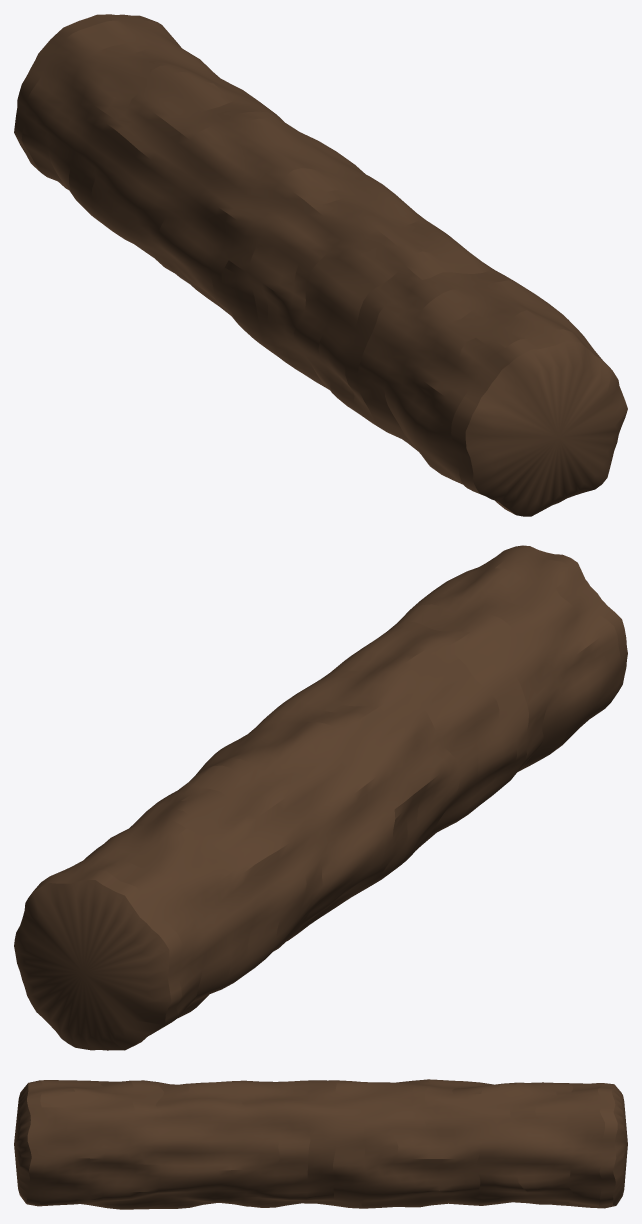
File: fallen_log.fbx
3 views of the same model, one above another, from view 1: azimuth 30°, elevation 25°; view 2: azimuth 150°, elevation 25°; view 3: azimuth 270°, elevation 25° (orthographic). The views are drawn at different scales.
Parts seen in each view (by area): view 1: Cylinder; view 2: Cylinder; view 3: Cylinder.
Part boxes in pixels (<box>): Cylinder: <box>14,14,627,516</box>; Cylinder: <box>14,545,627,1050</box>; Cylinder: <box>14,1079,627,1209</box>.
Bounding box in the file's own units: 211 × 212 × 998.
